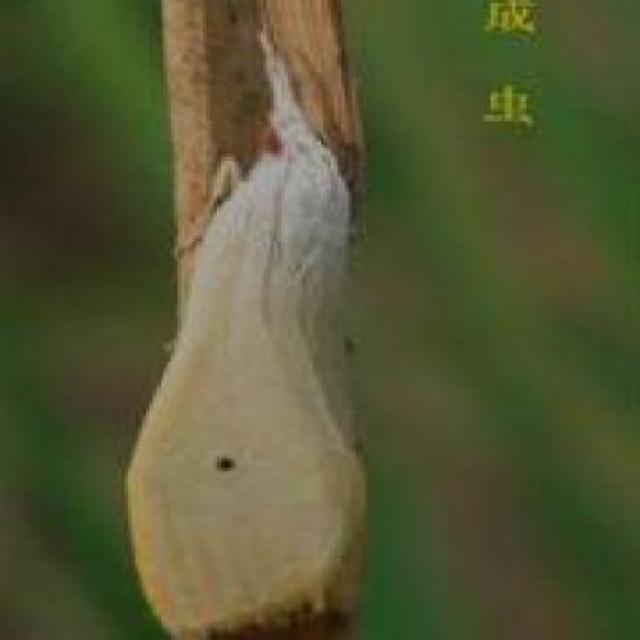stem-borer: (121, 24, 369, 640)
